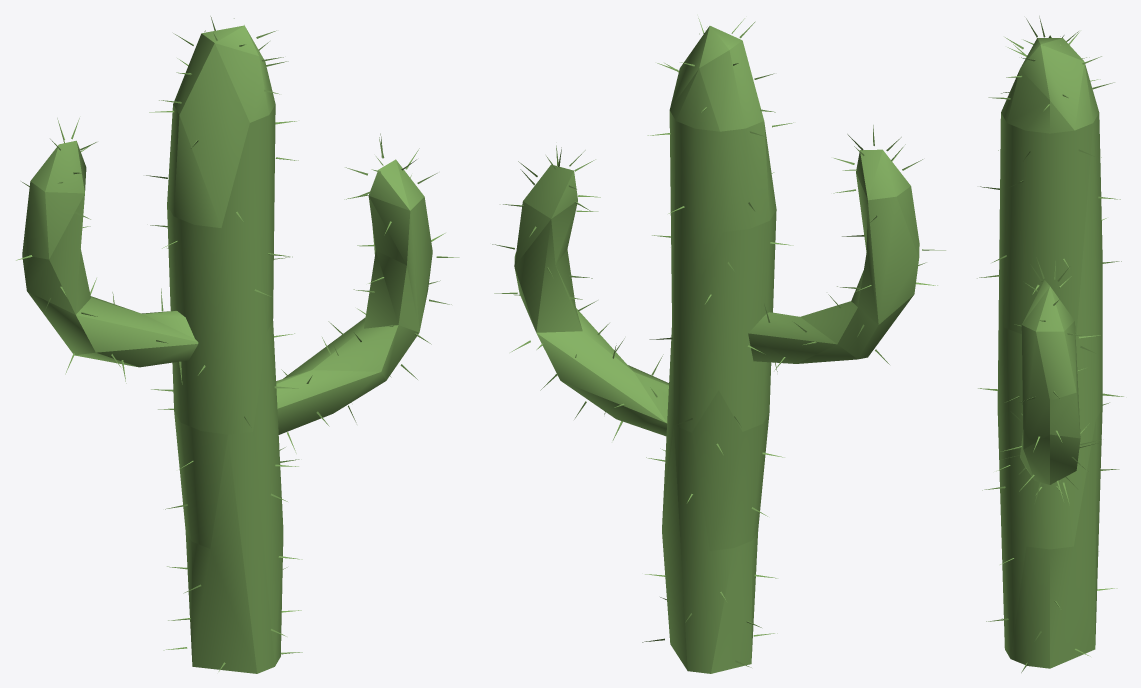
File: Cactus_1.fbx
3 views of the same model, side by side, from view 1: azimuth 30°, elevation 25°; view 2: azimuth 150°, elevation 25°; view 3: azimuth 270°, elevation 25° (orthographic). The views are drawn at different scales.
Visible parts, largest first — view 1: cactus; view 2: cactus; view 3: cactus.
Part boxes in pixels (<box>): cactus: <box>16,16,459,673</box>; cactus: <box>492,18,945,673</box>; cactus: <box>977,16,1123,672</box>.
Bounding box in the file's own units: 5.1 × 6.99 × 1.55.
